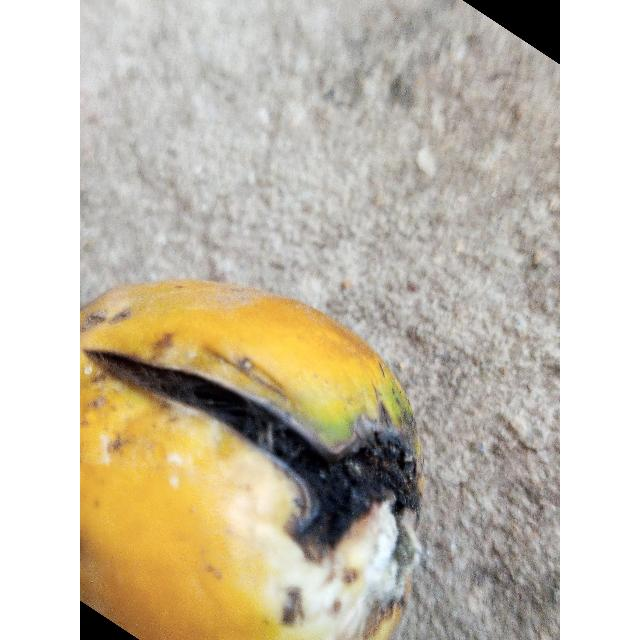damaged: (80, 280, 420, 640)
